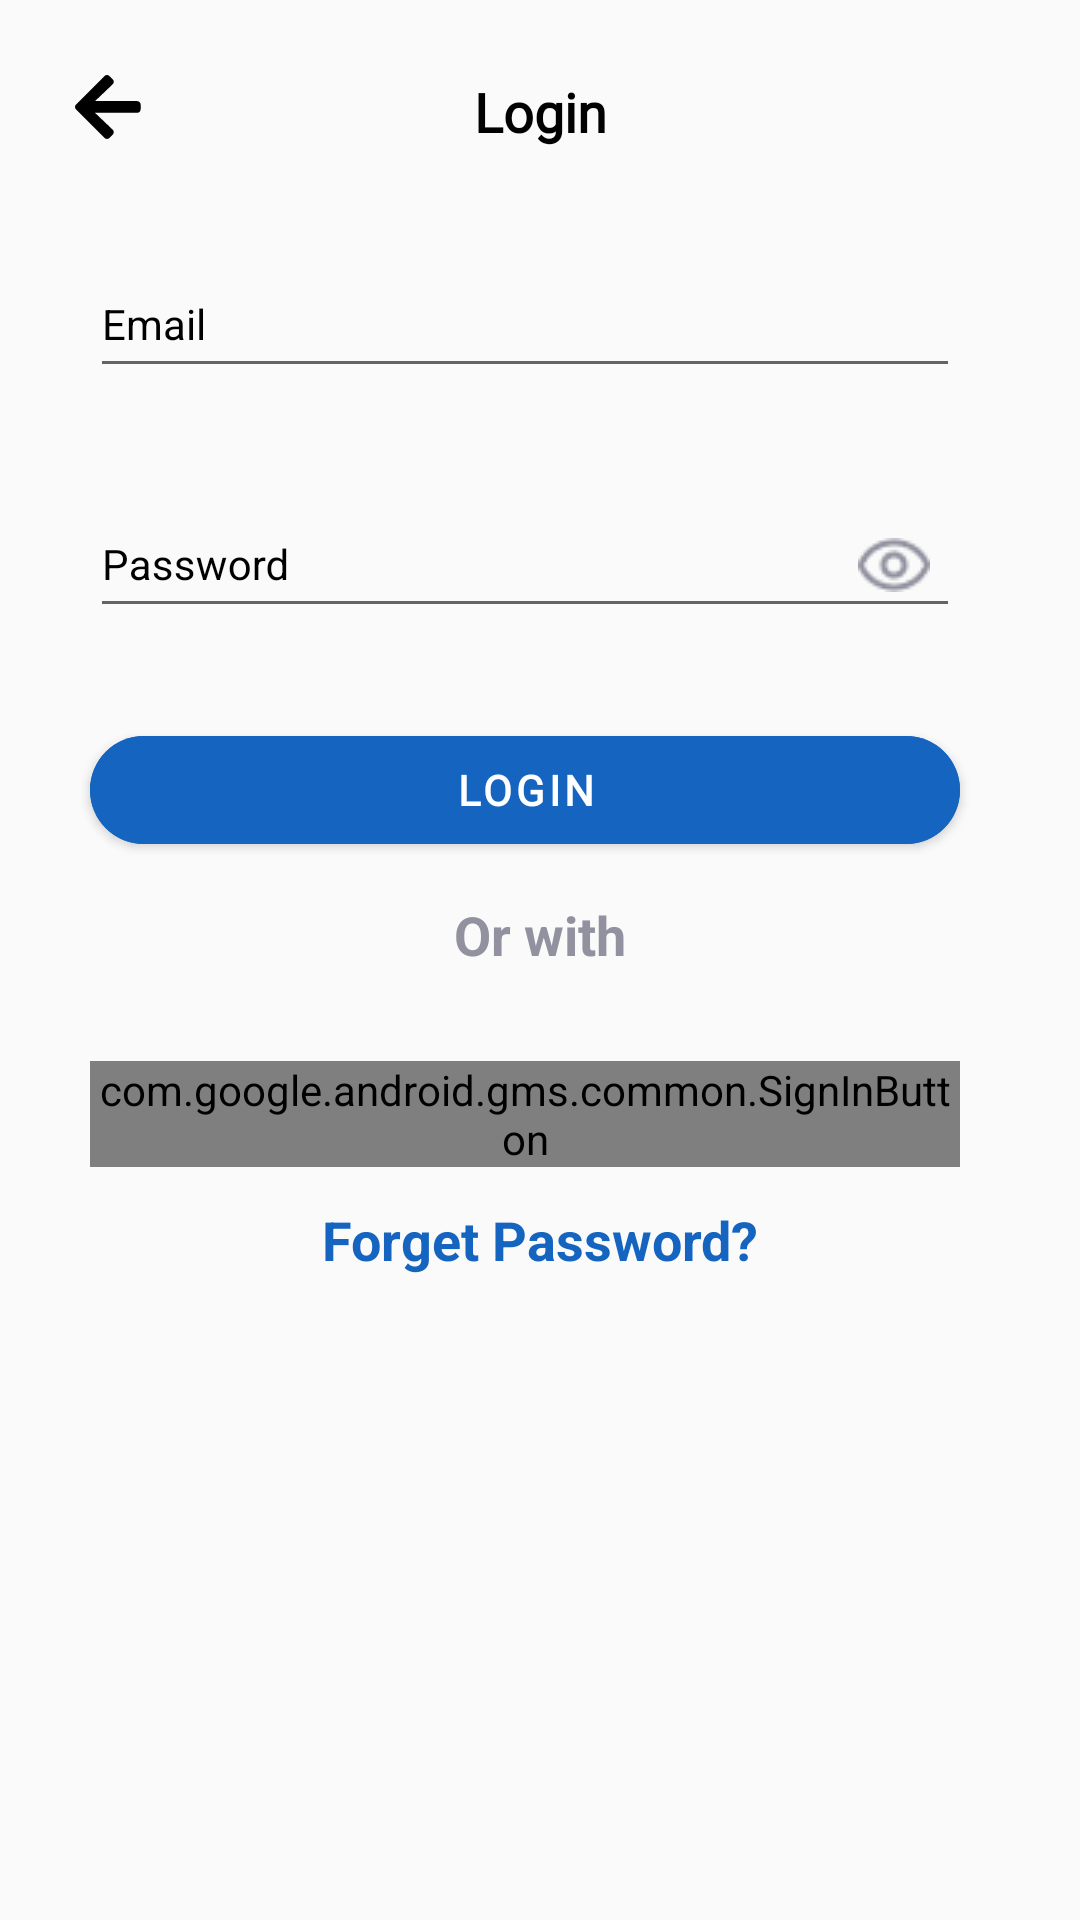

Where icons sit on this 1080px×1920px app screen, as (x1, y1, x2, y2):
back arrow: (75, 75, 141, 139)
